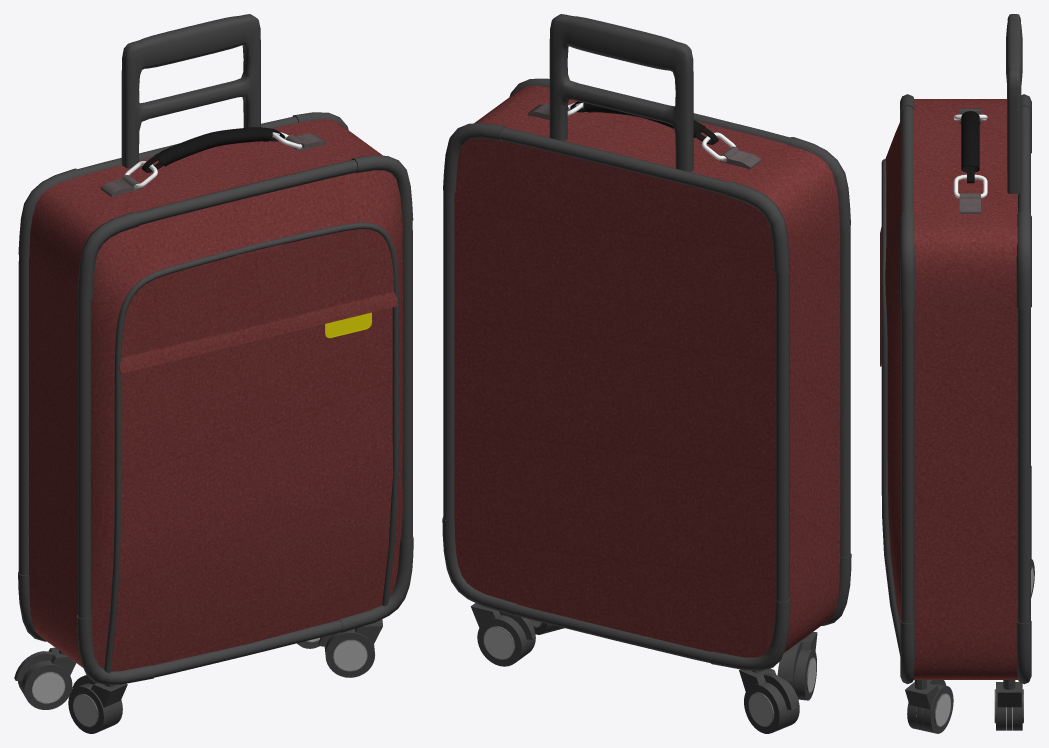
File: small_luggage.glb
3 views of the same model, side by side, from view 1: azimuth 30°, elevation 25°; view 2: azimuth 150°, elevation 25°; view 3: azimuth 270°, elevation 25° (orthographic). The views are drawn at different scales.
Parts seen in each view (by area): view 1: Felt, Rims, Puller, Wheels, Handle, Label; view 2: Felt, Rims, Puller, Wheels, Handle; view 3: Felt, Rims, Wheels, Puller, Handle.
Boxes of the visible parts, x1=… form: Felt: x1=29, y1=119, x2=403, y2=671; Rims: x1=18, y1=112, x2=413, y2=684; Puller: x1=121, y1=14, x2=260, y2=168; Wheels: x1=14, y1=619, x2=382, y2=733; Handle: x1=100, y1=127, x2=326, y2=197; Label: x1=325, y1=312, x2=371, y2=338; Felt: x1=454, y1=85, x2=840, y2=657; Rims: x1=442, y1=78, x2=851, y2=670; Puller: x1=549, y1=14, x2=693, y2=171; Wheels: x1=470, y1=603, x2=817, y2=733; Handle: x1=528, y1=101, x2=761, y2=169; Felt: x1=880, y1=99, x2=1017, y2=679; Rims: x1=881, y1=94, x2=1031, y2=684; Wheels: x1=905, y1=559, x2=1034, y2=733; Puller: x1=1006, y1=14, x2=1022, y2=194; Handle: x1=953, y1=108, x2=987, y2=213.
Bounding box in the file's own units: 3.42 × 6.17 × 1.37.
6 materials, 5 textured.
